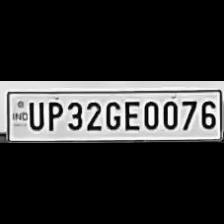0: (140, 98, 160, 130), (160, 97, 178, 129)
2: (83, 98, 101, 132)
3: (65, 98, 83, 132)
6: (196, 97, 218, 130)
7: (178, 97, 196, 130)
E: (122, 98, 140, 132)
G: (102, 98, 120, 130)
P: (45, 98, 63, 132)
U: (26, 98, 44, 132)
